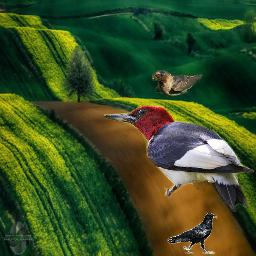Crow: (167, 213, 218, 254)
Swallow: (152, 70, 203, 98)
Woodpecker: (104, 106, 254, 212)
